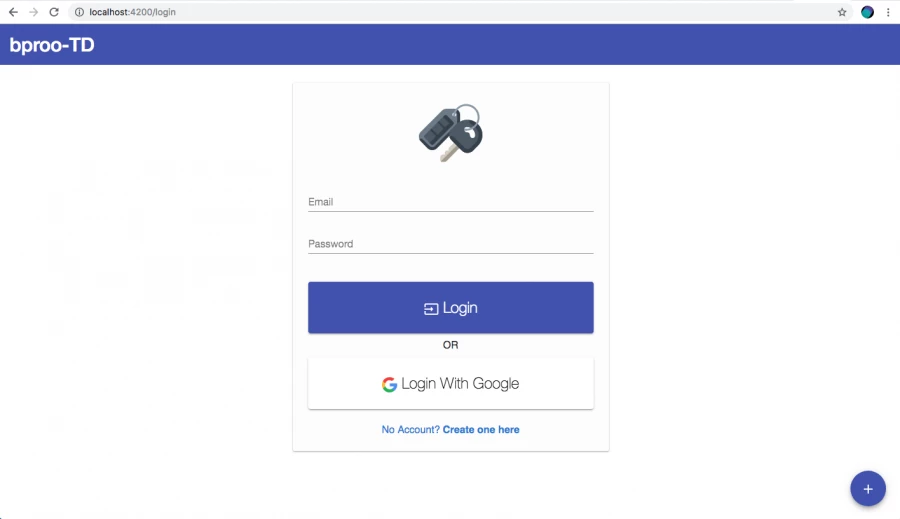button: (306, 279, 596, 336)
field_line: (305, 185, 594, 215), (304, 230, 596, 258)
